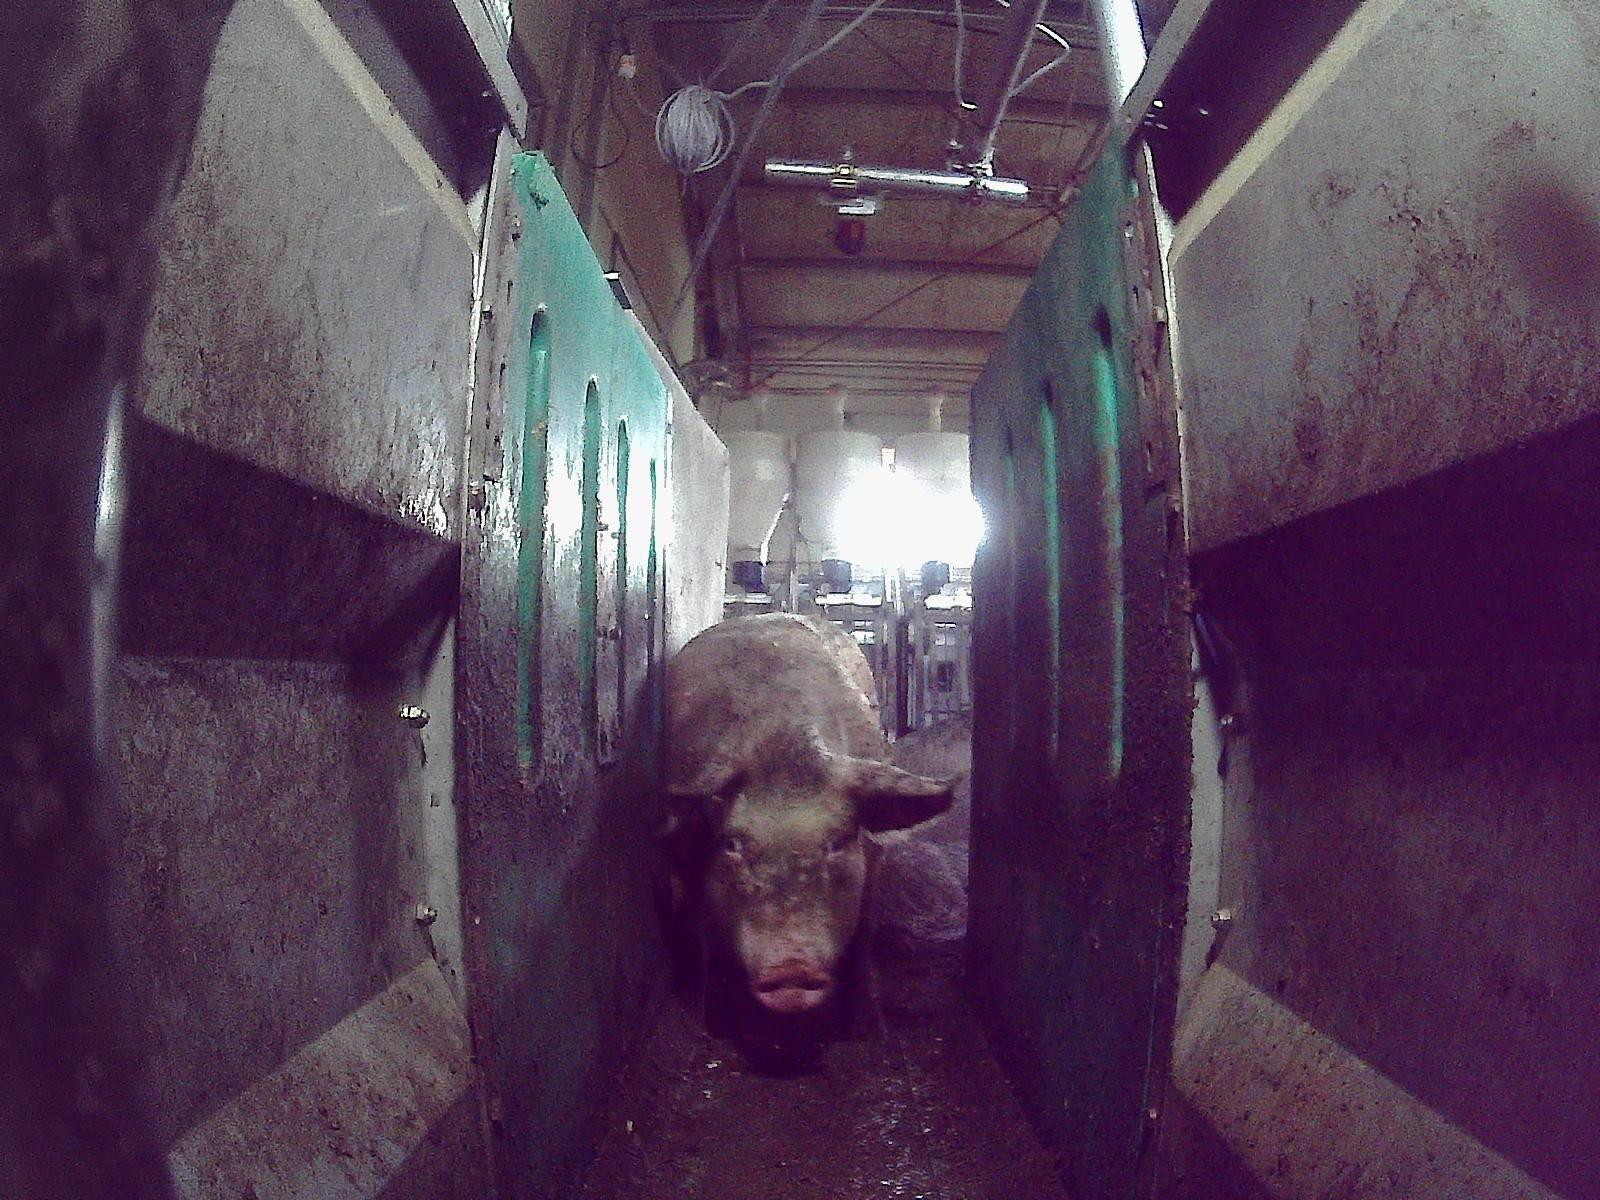Face: (692, 744, 869, 1012)
